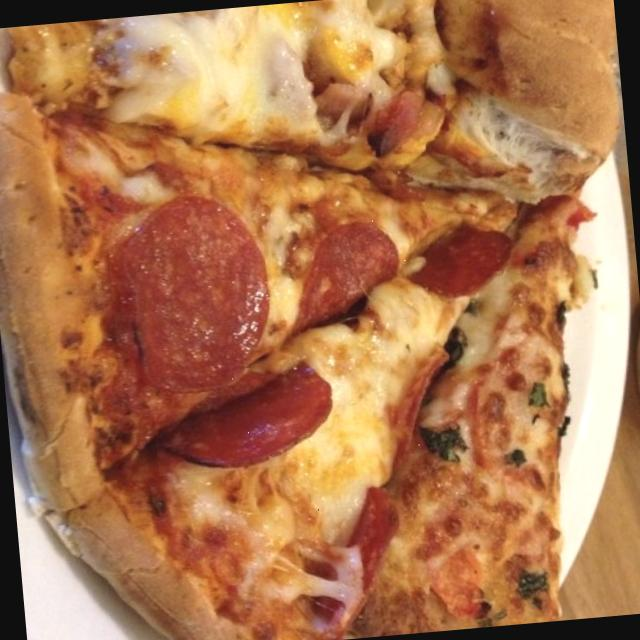pepperoni: (104, 198, 284, 412), (149, 346, 356, 474), (279, 216, 416, 362), (307, 487, 413, 640), (374, 333, 479, 469), (404, 212, 526, 302)
pizza: (0, 0, 615, 640)
